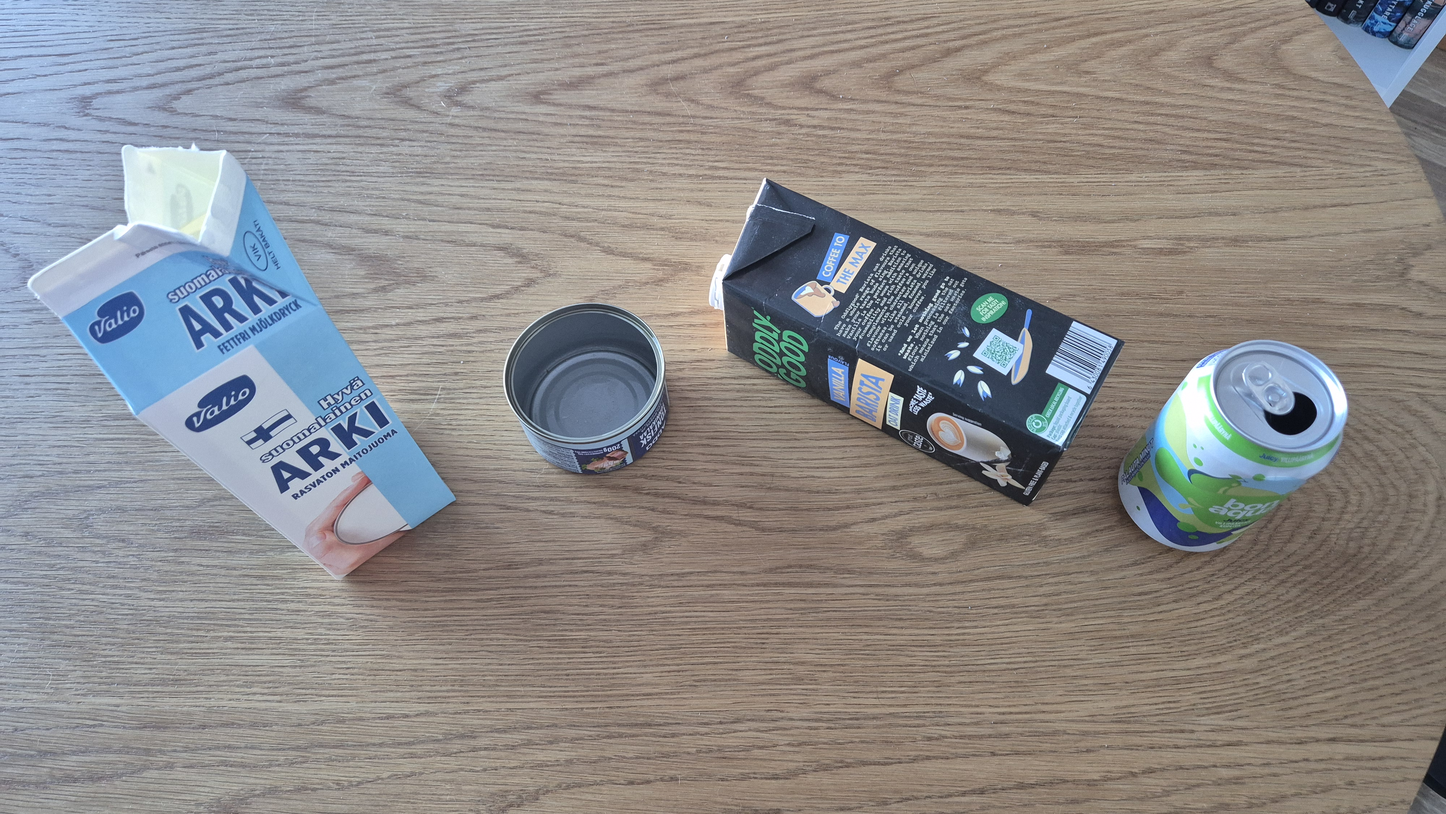Dryckeskartong: (27, 145, 456, 581), (709, 177, 1124, 507)
Konservburk: (503, 303, 670, 474)
Pantburk: (1119, 340, 1349, 552)
